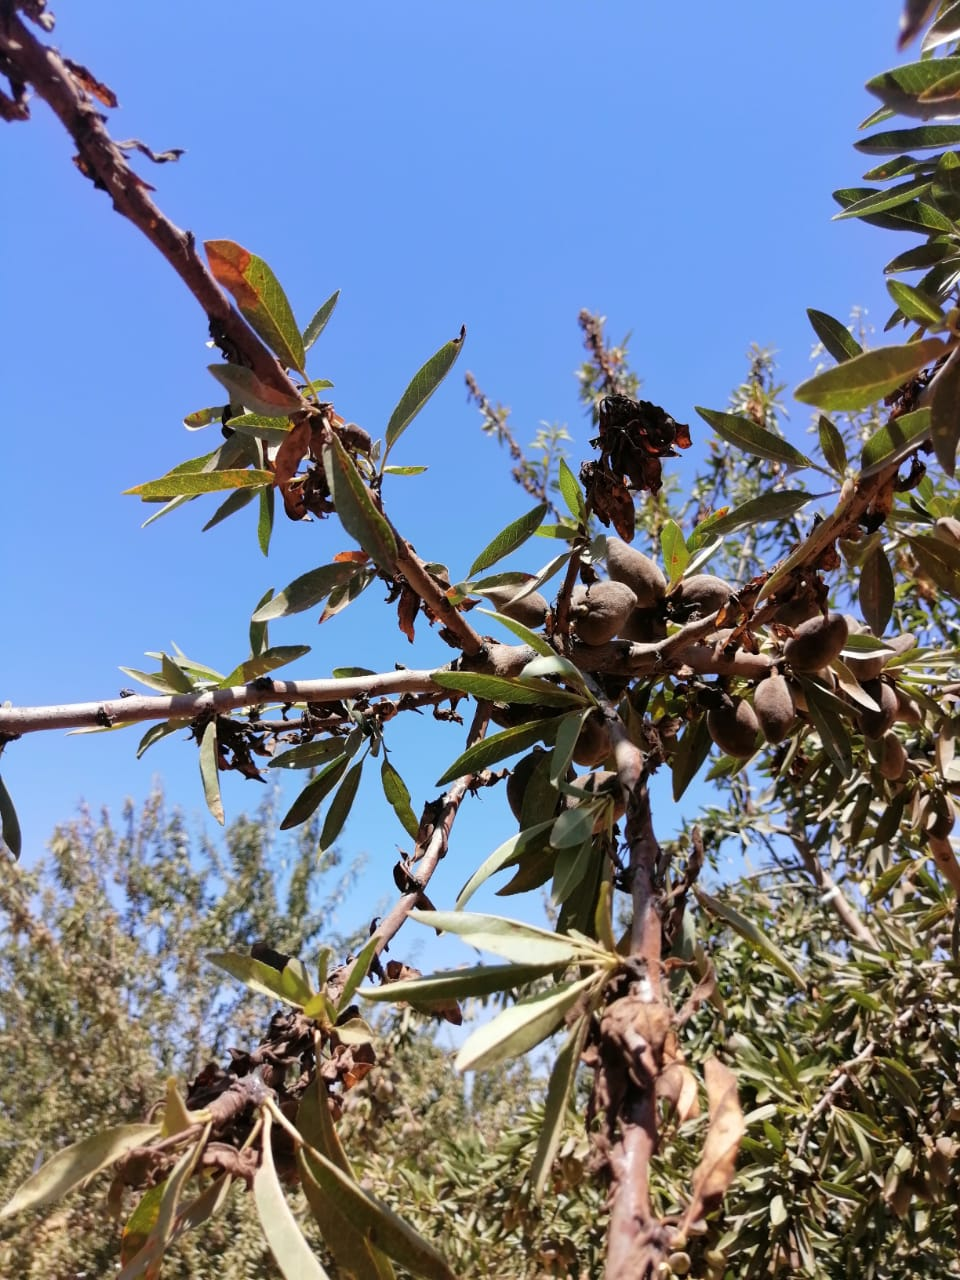scolytes: (110, 991, 376, 1192), (284, 396, 479, 644), (579, 985, 749, 1244), (1, 1, 183, 200)
